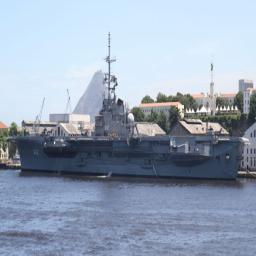Portanaves: (3, 26, 253, 186)
